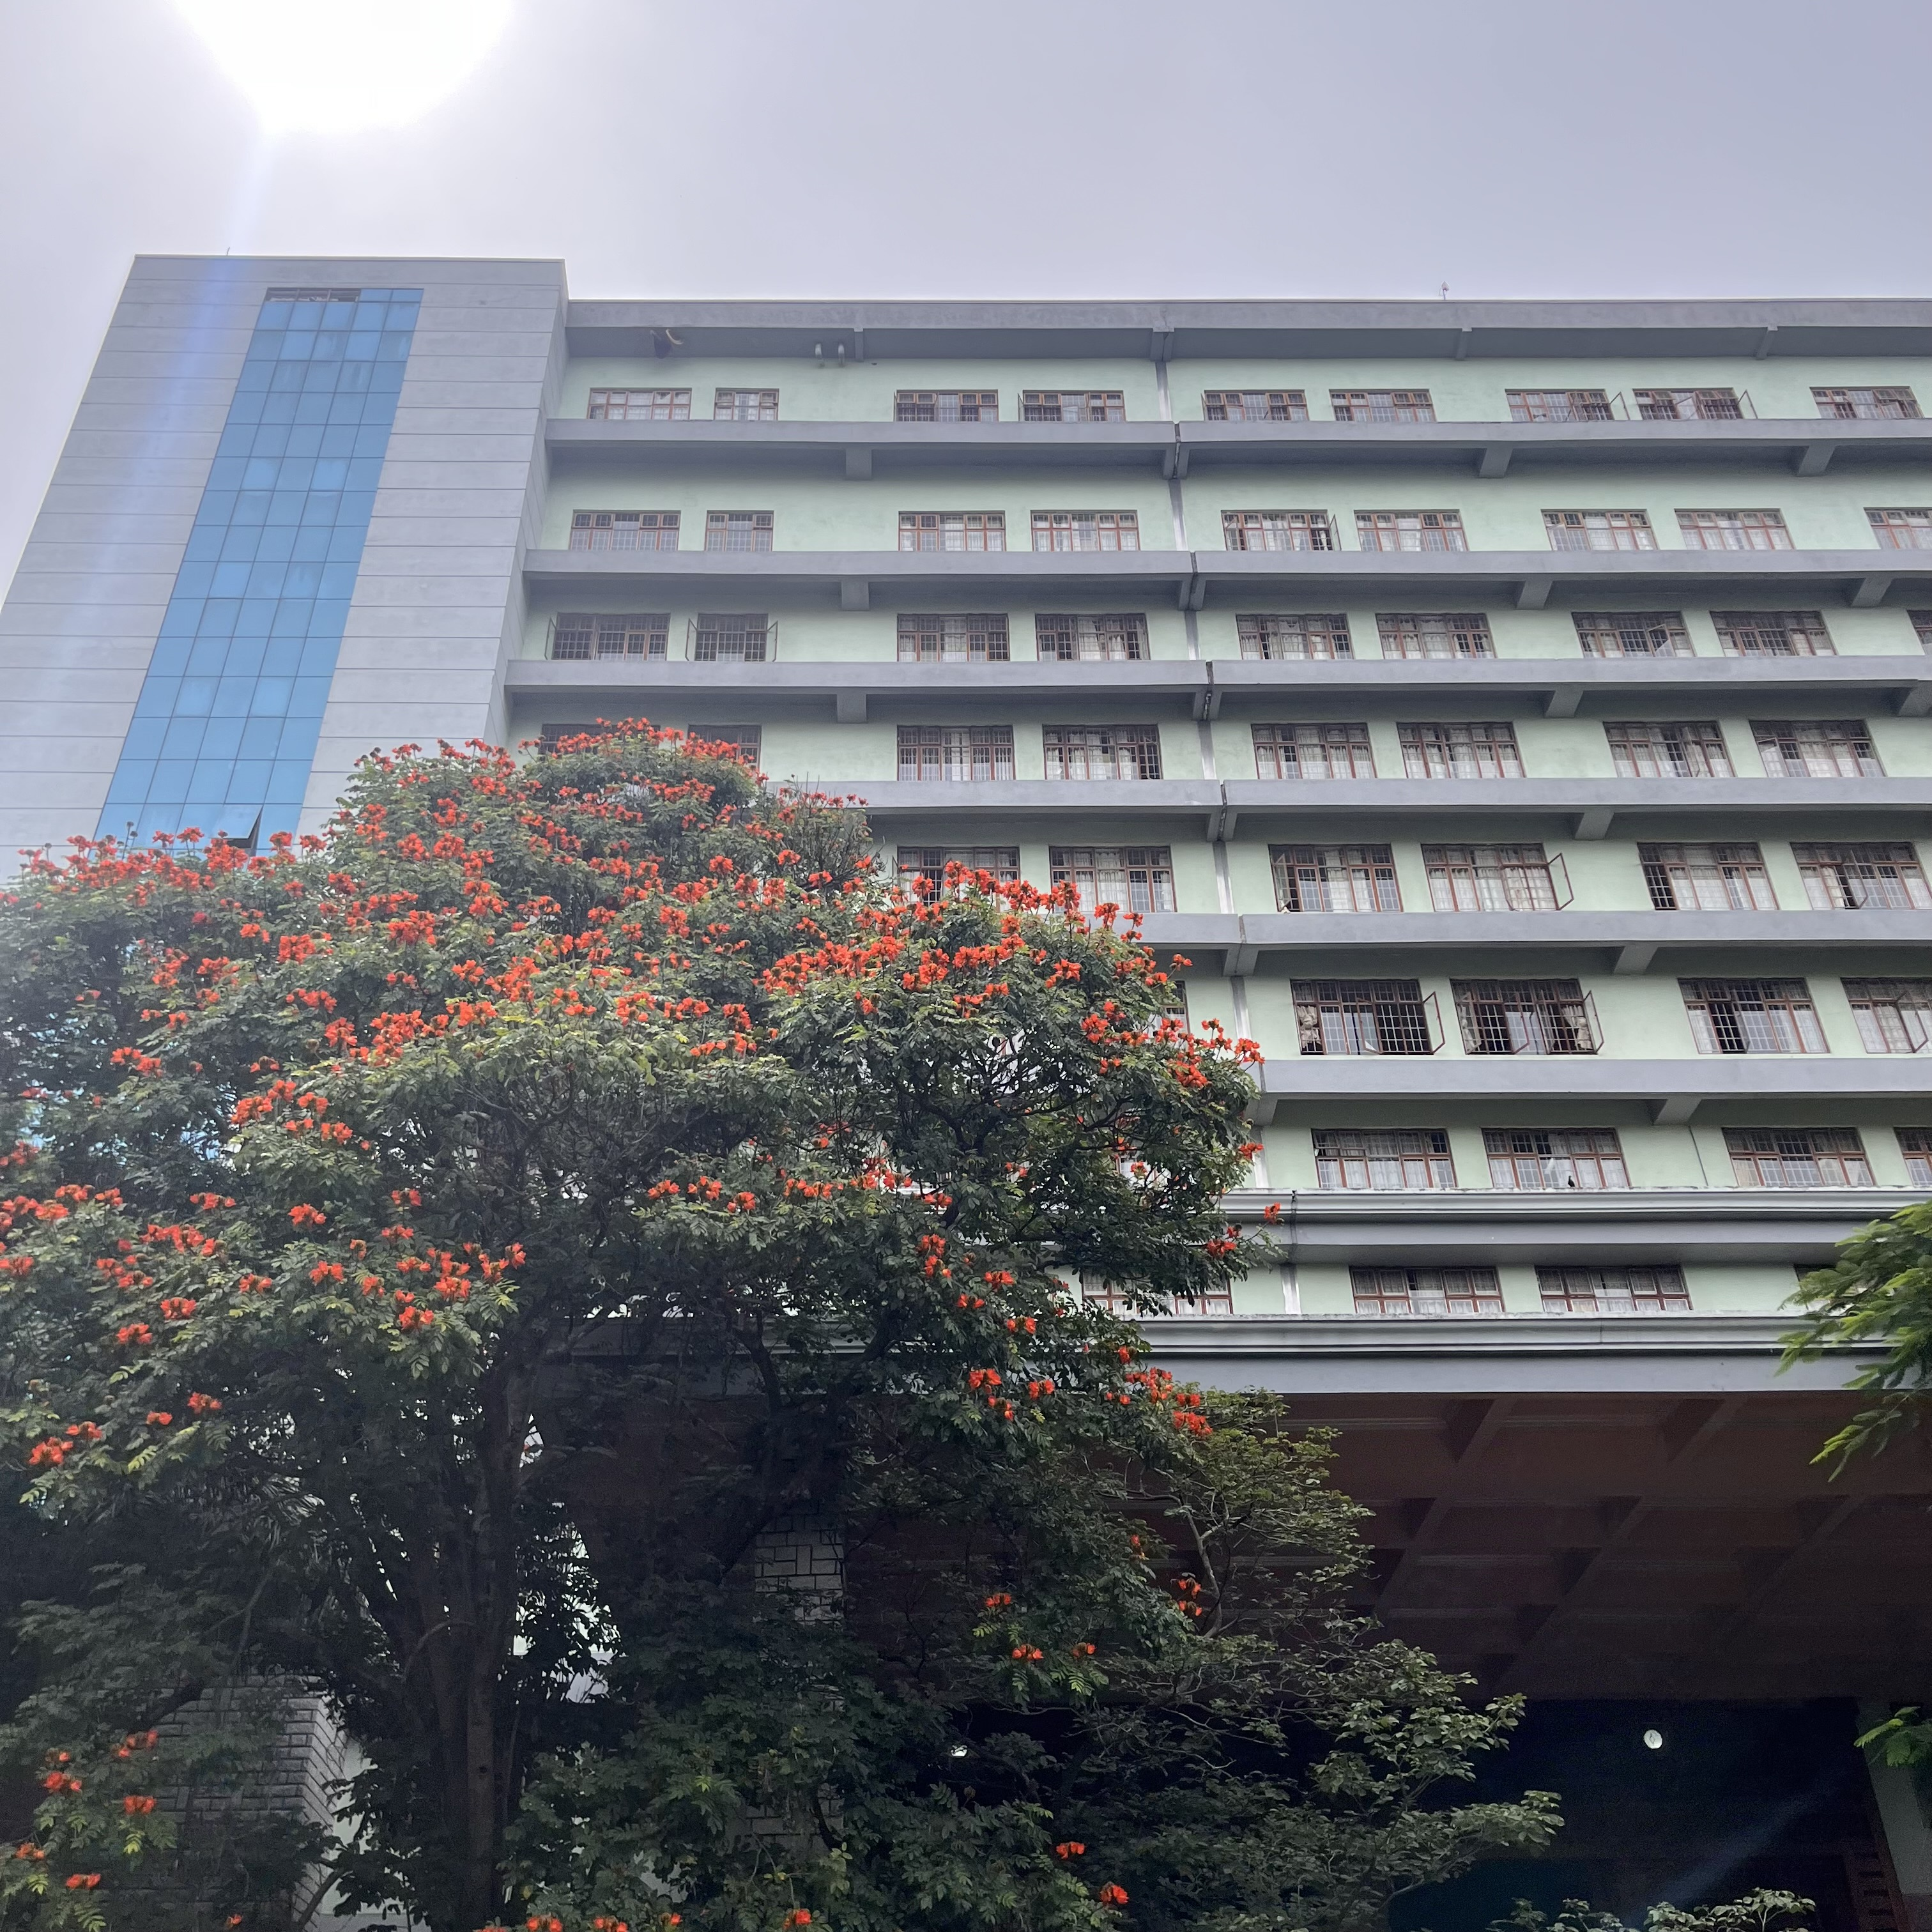Central Block: (78, 198, 1932, 1729)
